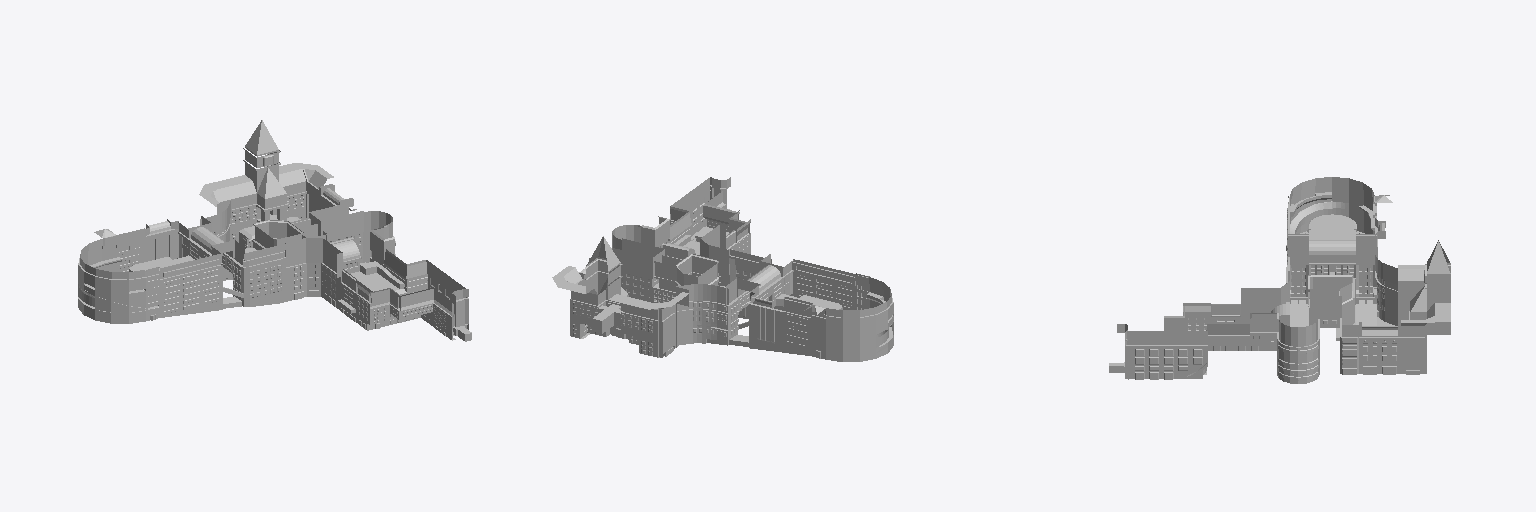
File: speed highway 3.obj
3 renders of one model, left to right at view 1: azimuth 30°, elevation 25°; view 2: azimuth 150°, elevation 25°; view 3: azimuth 270°, elevation 25°, orthographic.
Parts seen in each view (by area): view 1: object_[number redacted], object_02149C04, object_020EBD30, object_[number redacted], object_02114A94, object_020E61E4, object_020E7614, object_0215CD6C, object_020E83F4, object_[number redacted], object_0217E778, object_020EDB48 (+9 smaller); view 2: object_02149C04, object_[number redacted], object_021558D4, object_0215CD6C, object_020EBD30, object_0214FDEC, object_020E7614, object_0214D8F8, object_020E83F4, object_02163F54, object_020E61E4, object_0217E778 (+7 smaller); view 3: object_0216D4B4, object_02149C04, object_021220D8, object_02167C2C, object_020EBD30, object_020F065C, object_020E61E4, object_020E83F4, object_02164EFC, object_0217E778, object_021558D4, object_020CC6AC (+13 smaller).
Boxes of the visible parts, box(x1,y1,x2,y2) form: object_[number redacted]: box(159, 253, 222, 317); object_02149C04: box(78, 246, 145, 323); object_020EBD30: box(208, 154, 305, 209); object_[number redacted]: box(243, 252, 285, 306); object_02114A94: box(286, 262, 340, 310); object_020E61E4: box(285, 238, 342, 277); object_020E7614: box(309, 203, 363, 239); object_0215CD6C: box(231, 191, 306, 229); object_020E83F4: box(252, 220, 303, 248); object_[number redacted]: box(351, 261, 406, 295); object_0217E778: box(243, 120, 280, 167); object_020EDB48: box(398, 288, 454, 316); object_02149C04: box(826, 285, 893, 361); object_[number redacted]: box(792, 259, 855, 309); object_021558D4: box(677, 301, 727, 345); object_0215CD6C: box(571, 299, 657, 339); object_020EBD30: box(559, 270, 657, 319); object_0214FDEC: box(749, 303, 783, 352); object_020E7614: box(613, 238, 664, 278); object_0214D8F8: box(784, 311, 811, 355); object_020E83F4: box(676, 254, 718, 285); object_02163F54: box(571, 319, 657, 357); object_020E61E4: box(700, 224, 729, 273); object_0217E778: box(585, 236, 622, 284); object_0216D4B4: box(1125, 345, 1207, 379); object_02149C04: box(1290, 184, 1374, 233); object_021220D8: box(1277, 339, 1319, 383); object_02167C2C: box(1359, 338, 1400, 374); object_020EBD30: box(1410, 284, 1450, 319); object_020F065C: box(1127, 331, 1207, 344); object_020E61E4: box(1241, 271, 1289, 311); object_020E83F4: box(1308, 275, 1352, 306); object_02164EFC: box(1401, 337, 1424, 374); object_0217E778: box(1425, 240, 1450, 286); object_021558D4: box(1375, 271, 1397, 325); object_020CC6AC: box(1290, 201, 1348, 233).
Size of the model in its own units: 210 by 78.71 by 212.